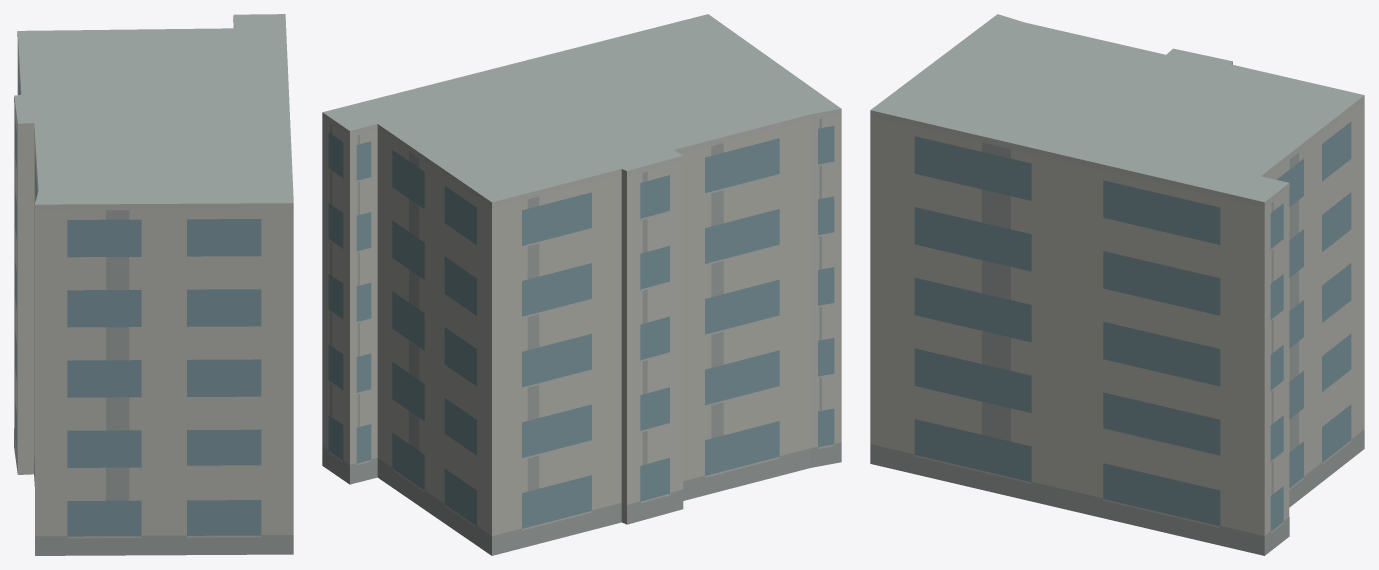
The model's file is survey-upis-32877612.glb.
3 renders of one model, left to right at view 1: azimuth 30°, elevation 25°; view 2: azimuth 150°, elevation 25°; view 3: azimuth 270°, elevation 25°, orthographic.
Visible parts, largest first — view 1: survey-upis-32877612.tmp; view 2: survey-upis-32877612.tmp; view 3: survey-upis-32877612.tmp.
Part boxes in pixels (x1,y1,x2,y2): survey-upis-32877612.tmp: (14, 14, 293, 555); survey-upis-32877612.tmp: (322, 14, 841, 555); survey-upis-32877612.tmp: (870, 14, 1364, 555).
Bounding box in the file's own units: 16.11 × 14.1 × 17.88.
